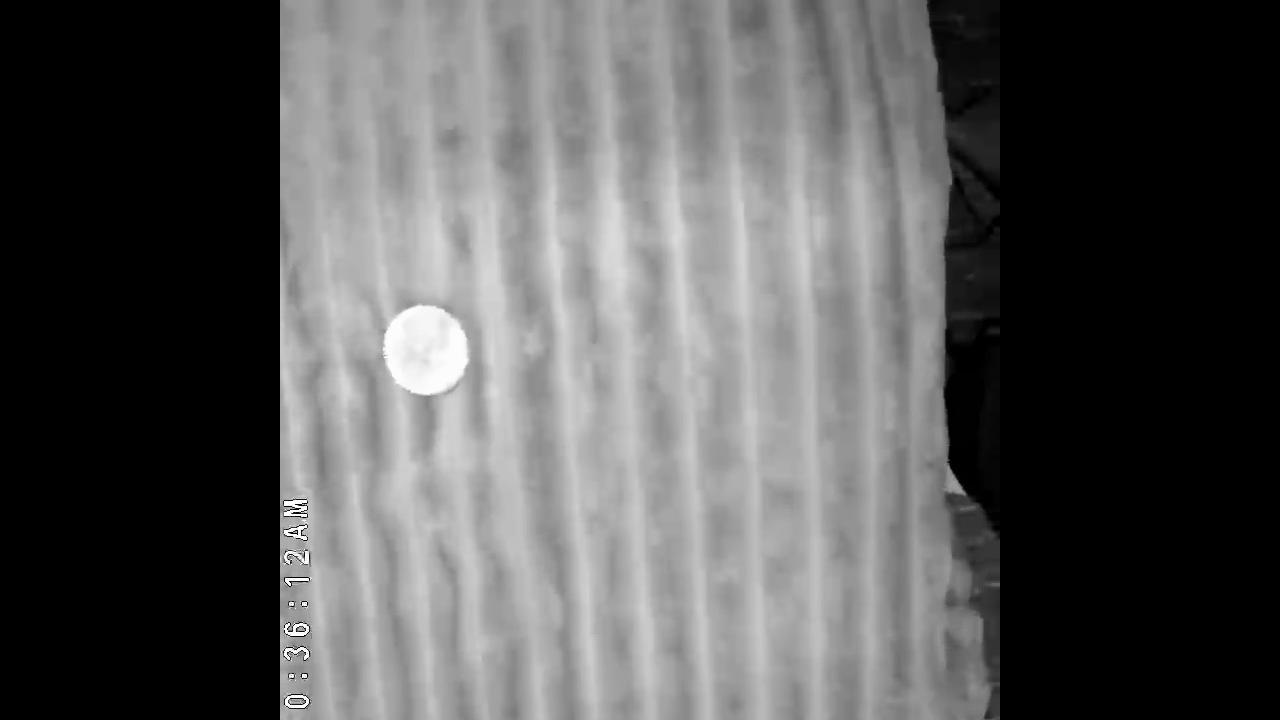coin: (379, 302, 474, 398)
